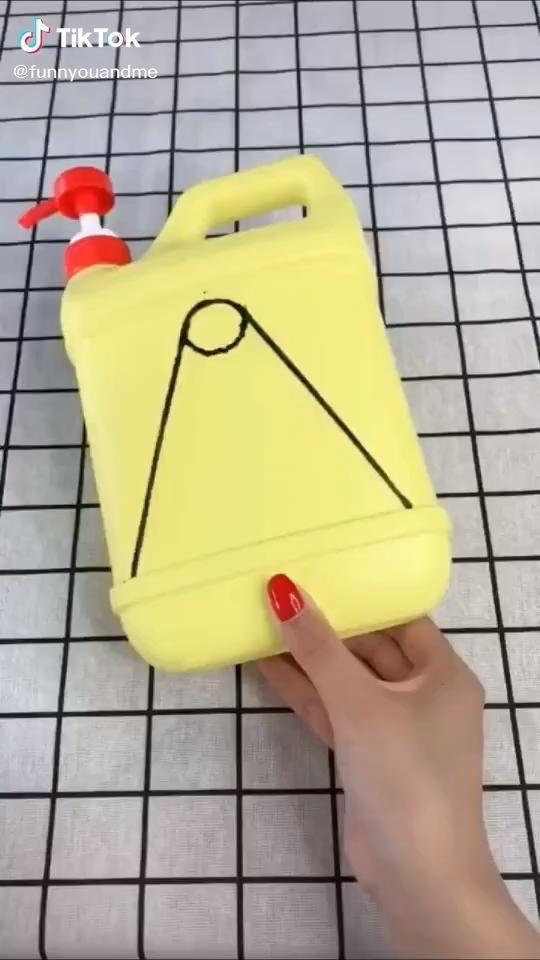HDPE: (61, 162, 450, 682), (20, 166, 132, 276)
